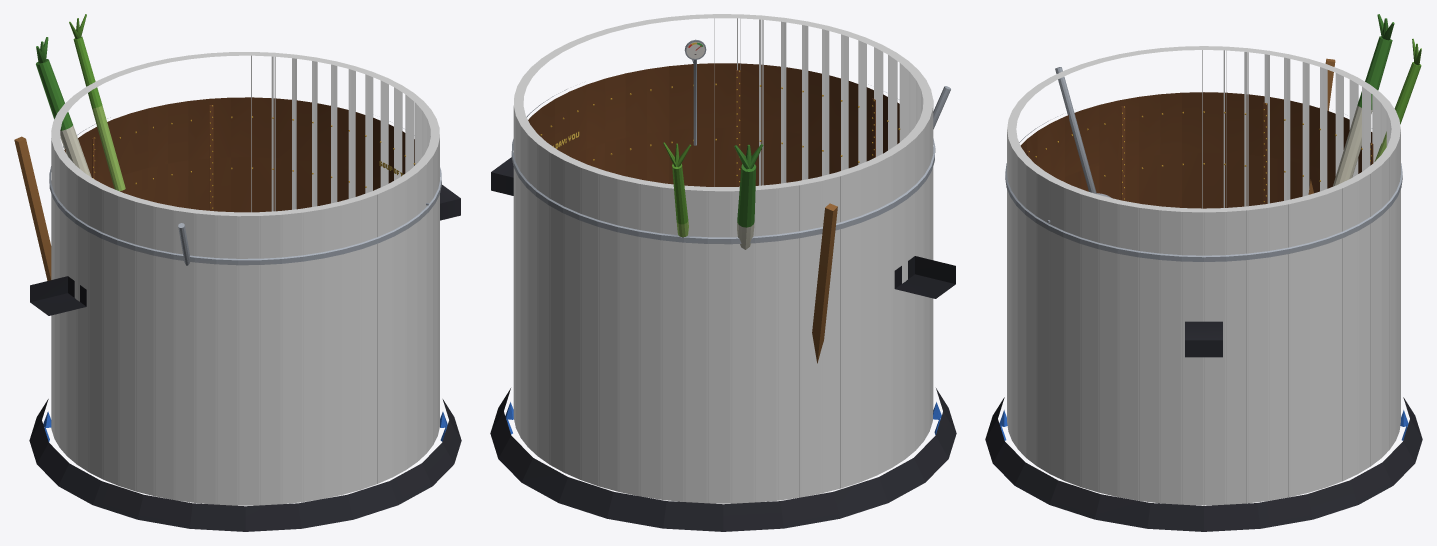
Rendered from soup_pot.glb.
3 renders of one model, left to right at view 1: azimuth 30°, elevation 25°; view 2: azimuth 150°, elevation 25°; view 3: azimuth 270°, elevation 25°, orthographic. The views are drawn at different scales.
Parts seen in each view (by area): view 1: soup_pot, COL_19, COL_20, COL_21, COL_22, COL_17, COL_16, COL_18, COL_15, COL_14, COL_23, COL_13 (+26 smaller); view 2: soup_pot, COL_37, COL_38, COL_40, COL_35, COL_39, COL_34, COL_41, COL_36, COL_42, COL_31, COL_33 (+25 smaller); view 3: soup_pot, COL_1, COL_53, COL_54, COL_2, COL_4, COL_52, COL_51, COL_3, COL_5, COL_50, COL_0 (+26 smaller).
Boxes of the visible parts, x1,y1,x2,y2 form: soup_pot: (14, 14, 461, 531); COL_19: (215, 211, 239, 505); COL_20: (194, 210, 217, 504); COL_21: (173, 207, 198, 502); COL_22: (153, 203, 178, 499); COL_17: (258, 211, 282, 505); COL_16: (278, 209, 303, 504); COL_18: (237, 212, 260, 505); COL_15: (299, 206, 324, 502); COL_14: (318, 202, 343, 498); COL_23: (135, 198, 156, 496); COL_13: (337, 197, 361, 494); soup_pot: (490, 39, 956, 531); COL_37: (706, 187, 732, 503); COL_38: (683, 185, 709, 503); COL_40: (638, 180, 665, 499); COL_35: (753, 184, 778, 502); COL_39: (660, 183, 687, 501); COL_34: (774, 181, 801, 500); COL_41: (617, 176, 644, 496); COL_36: (729, 186, 755, 503); COL_42: (598, 170, 624, 491); COL_31: (835, 167, 861, 488); COL_33: (796, 177, 822, 497); soup_pot: (985, 14, 1422, 531); COL_1: (1159, 206, 1184, 504); COL_53: (1244, 204, 1269, 503); COL_54: (1223, 206, 1248, 504); COL_2: (1138, 204, 1163, 503); COL_4: (1098, 196, 1123, 496); COL_52: (1265, 201, 1290, 500); COL_51: (1284, 196, 1309, 497); COL_3: (1117, 201, 1140, 500); COL_5: (1080, 191, 1103, 492); COL_50: (1303, 191, 1327, 492); COL_0: (1181, 208, 1205, 505).
Size of the model in its own units: 76 by 63.6 by 69.
